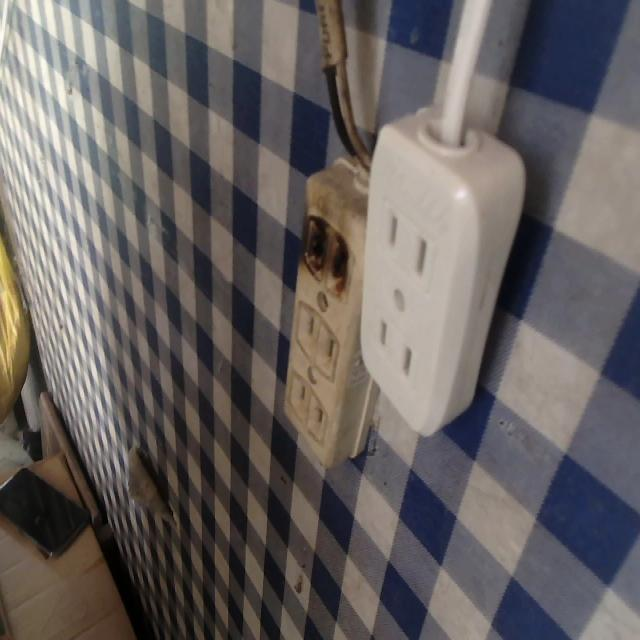-: (284, 200, 366, 299)
